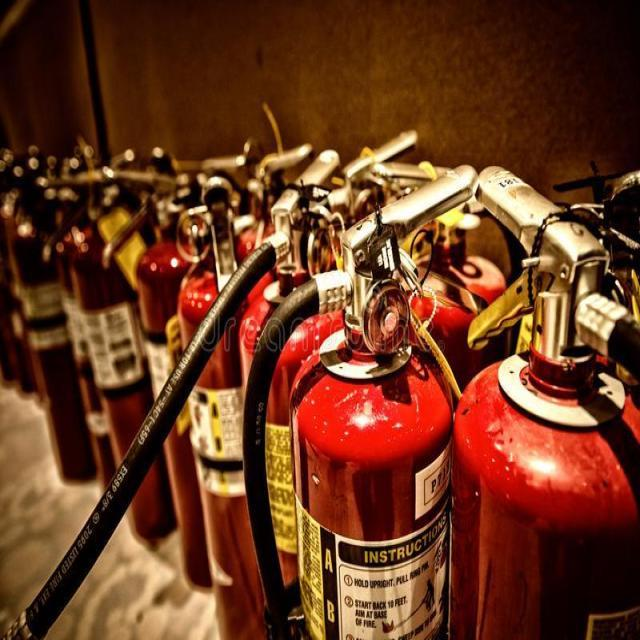fire_extinguisher: (0, 140, 353, 638), (239, 172, 474, 639), (440, 156, 640, 639), (94, 157, 243, 595), (166, 150, 274, 603)
